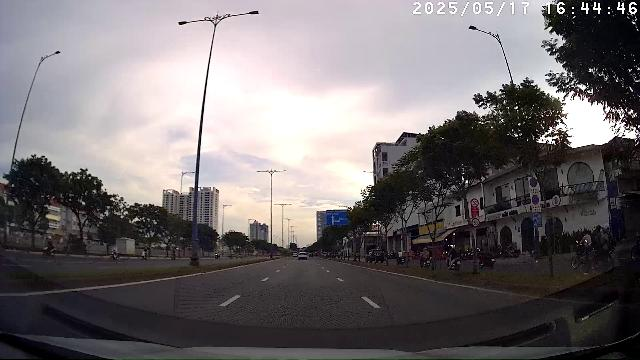127-toc-do-toi-da-50: (471, 218, 480, 227)
